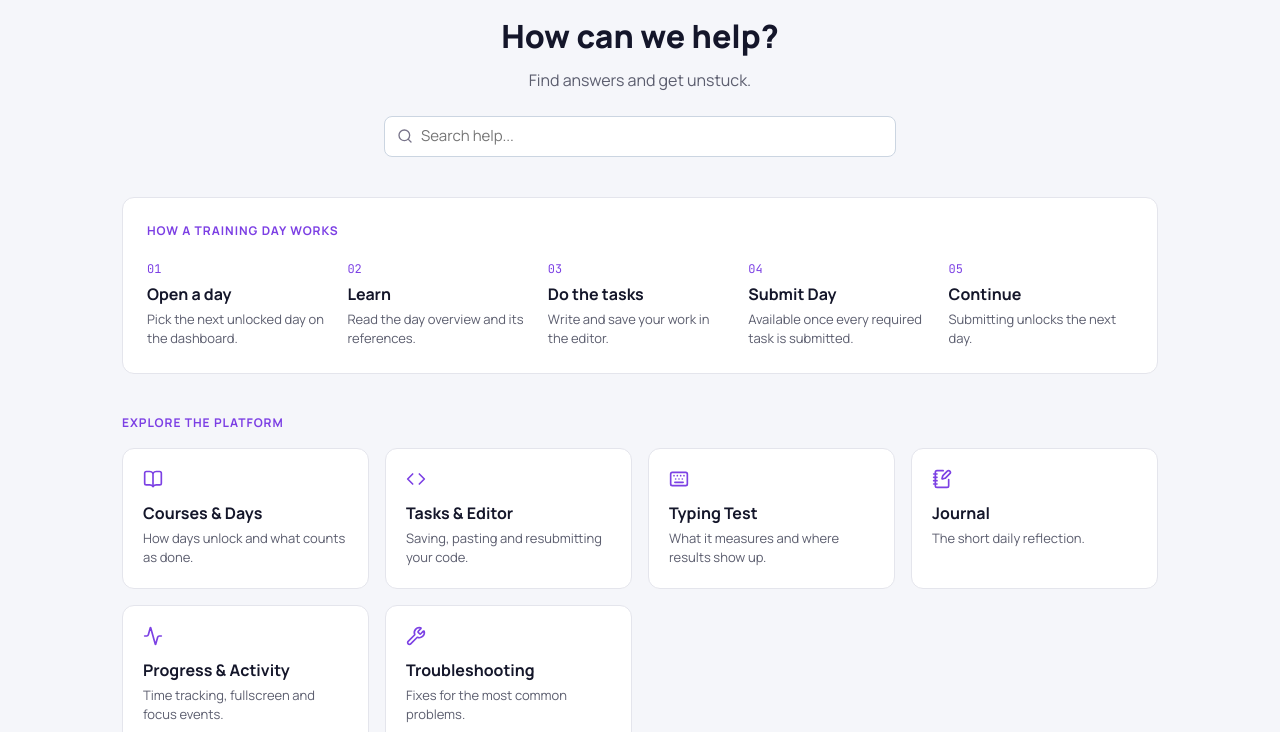
Test: HelpPage › shows a message when nothing matches
Type "zzzz" into the search field labelled "Search help" at x=652, y=136, box [421,125,883,148]
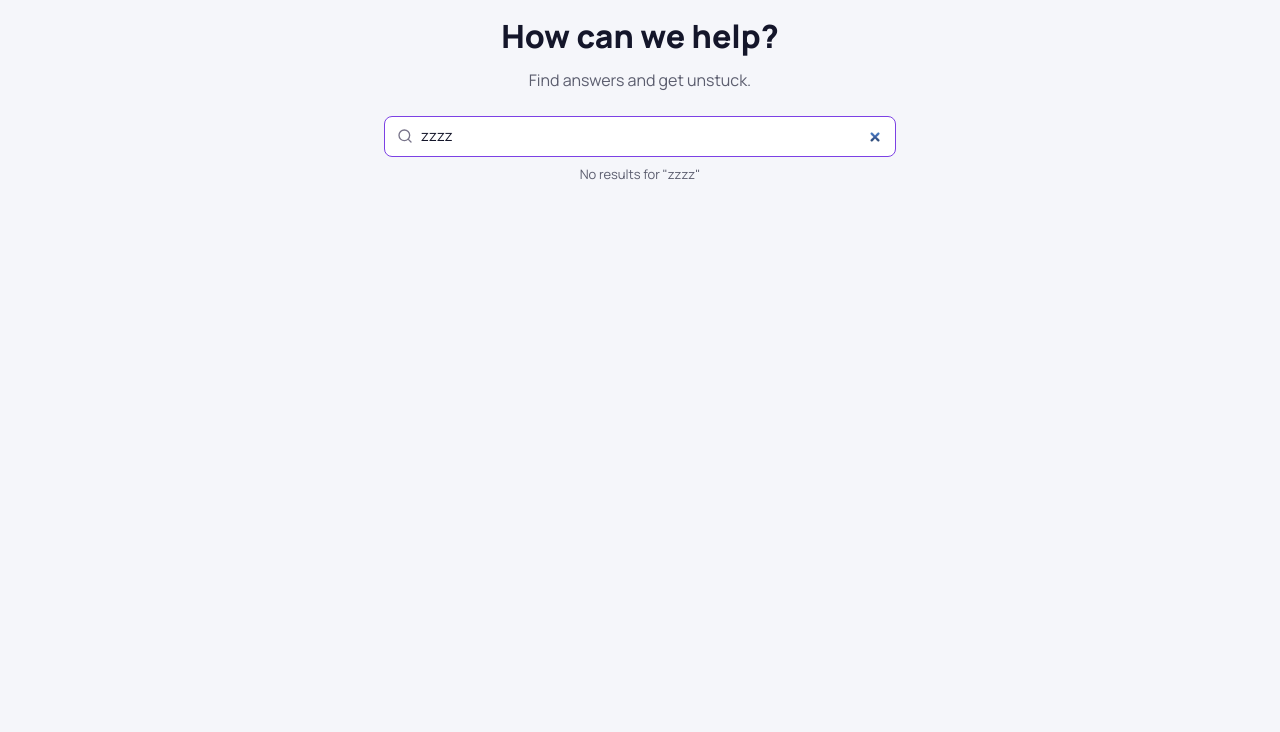
Check: the message reads "No results for \"zzzz\"", box [580,164,700,182]
